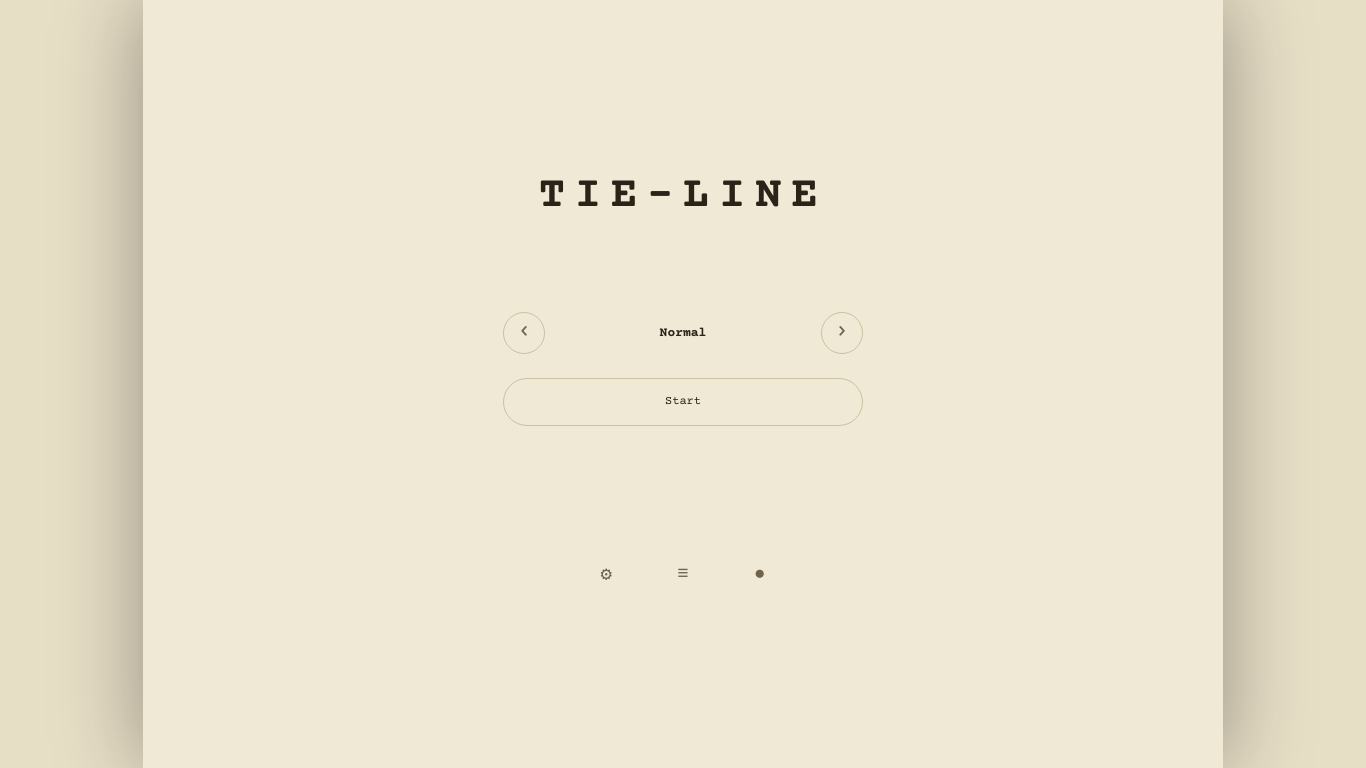
Test: Tie-Line launch › shows the notes fundamentals without a search field
The image size is (1366, 768).
Click the button named "Rules".
click(683, 574)  # box [660,551,706,597]
(page scrolled)
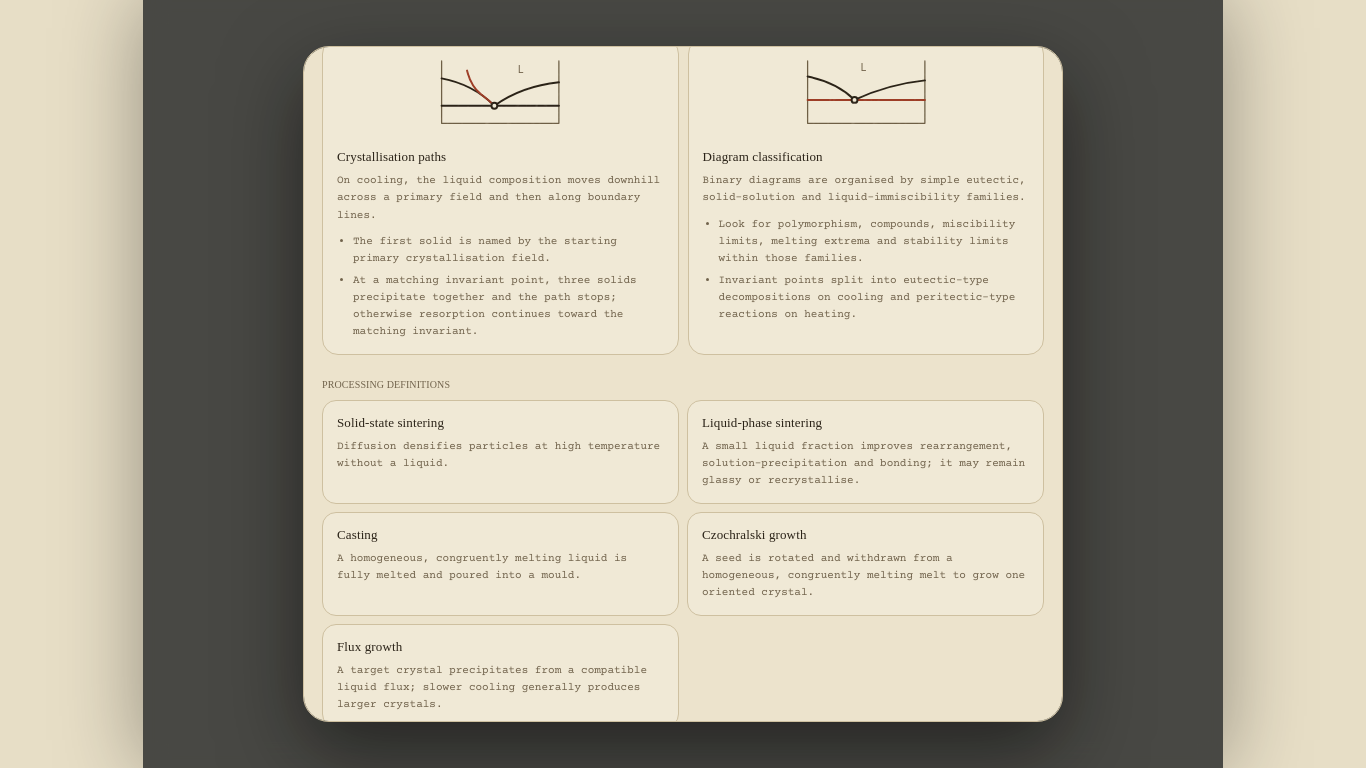
Check: the heading "Processing definitions" is shown, box [322,379,450,390]
